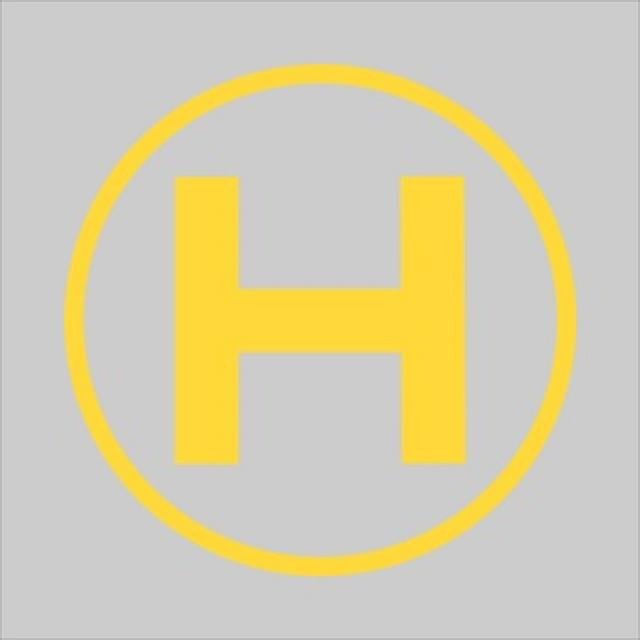helipad: (51, 49, 587, 580)
